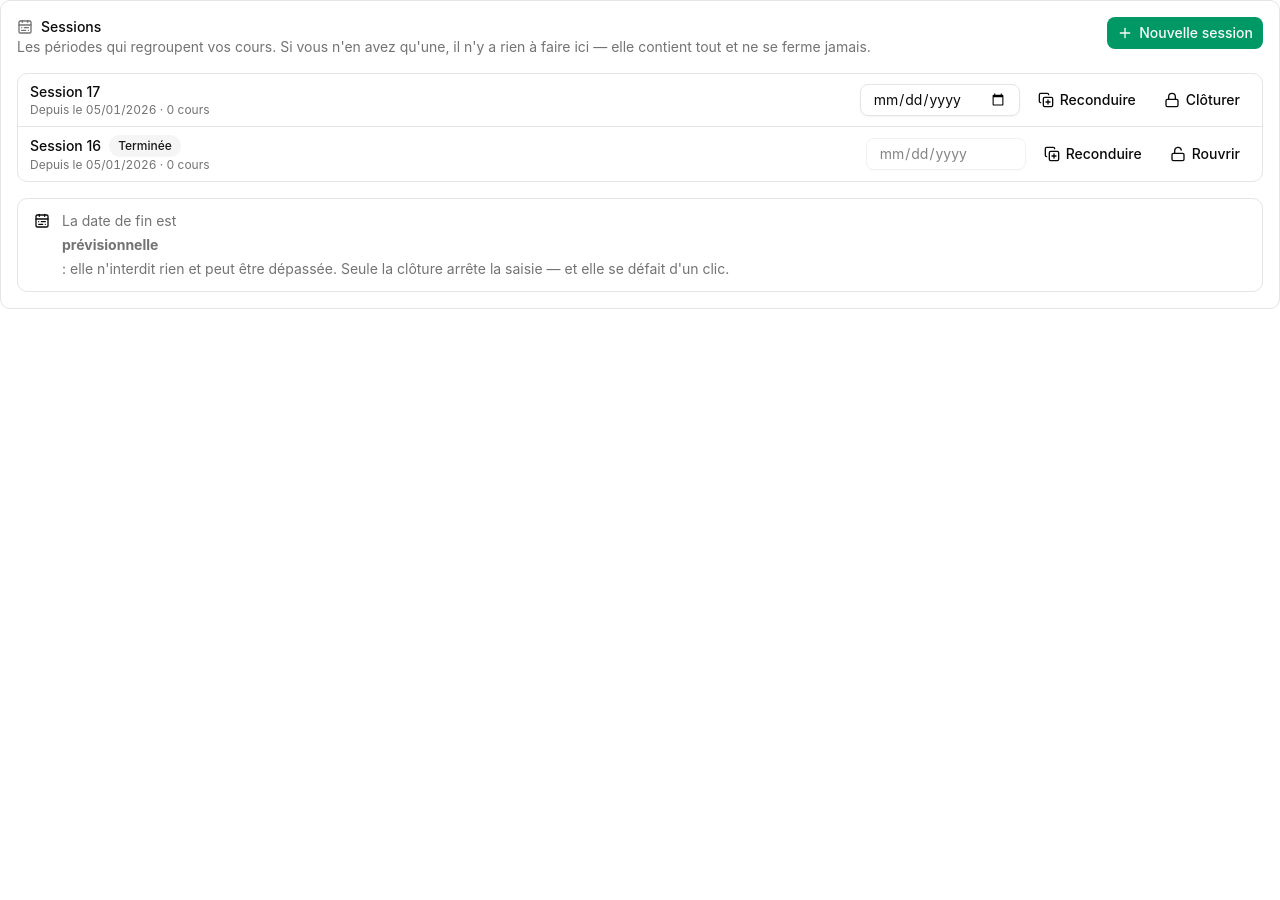
Test: SectionSessions › dit ce que la clôture ferme, et ce qu’elle laisse ouvert
What coordinates should you click on to do the following:
click the button "Clôturer"
I would click on:
 (1202, 100)
Its box is [1154, 84, 1250, 116].
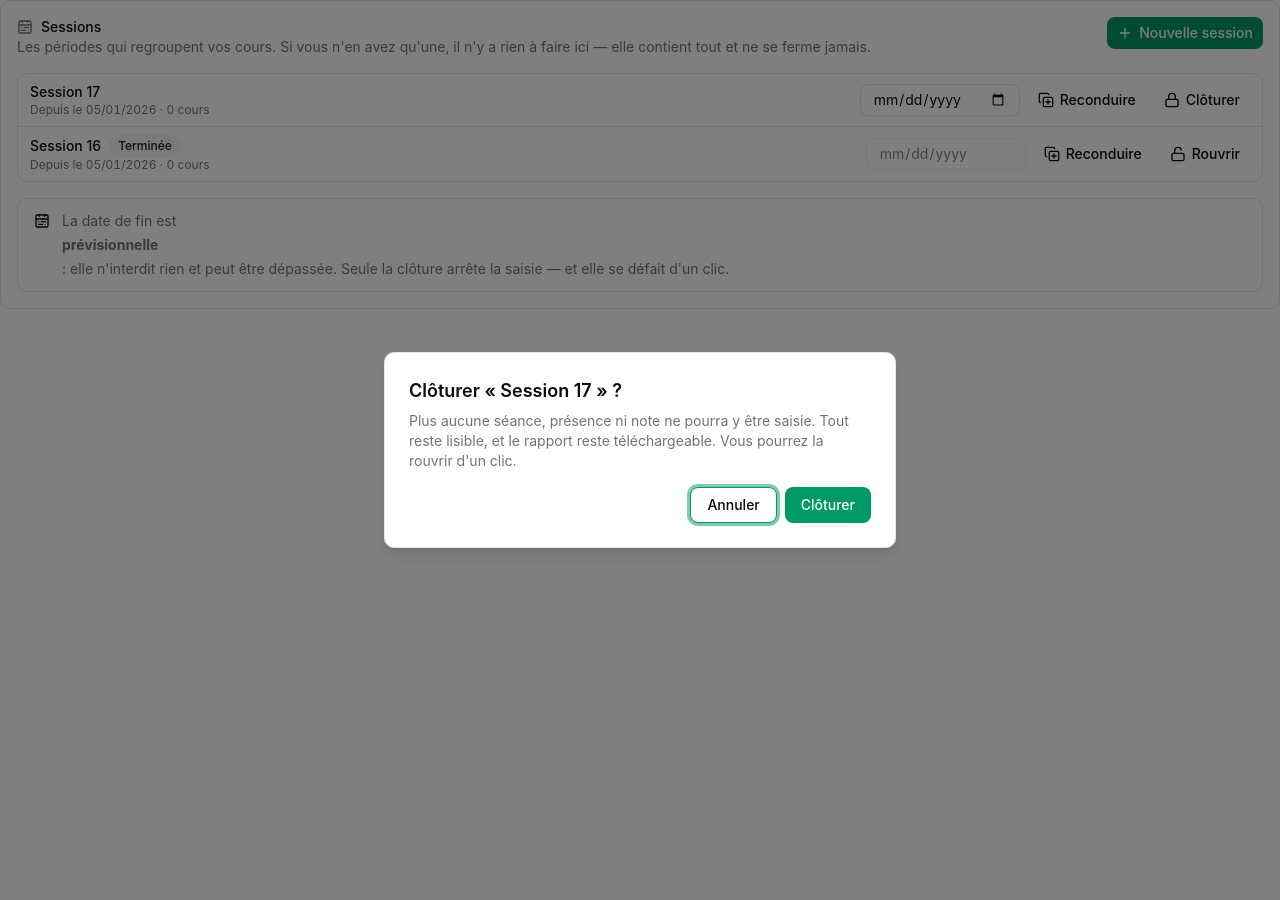
Expected: the text "rouvrir d'un clic" is shown, [409, 412, 849, 469]
